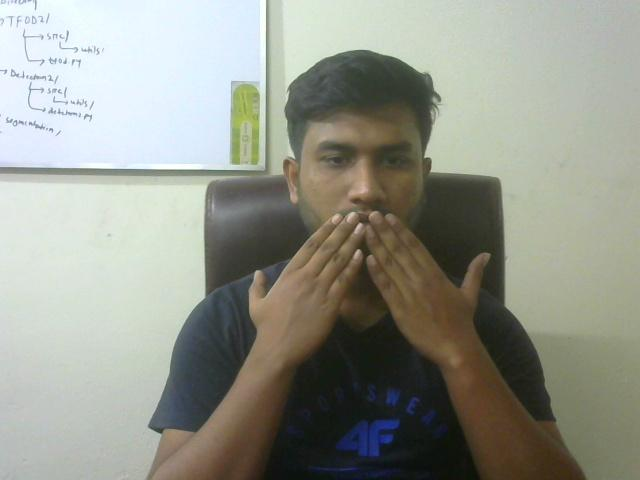Thanks: (236, 204, 506, 372)
